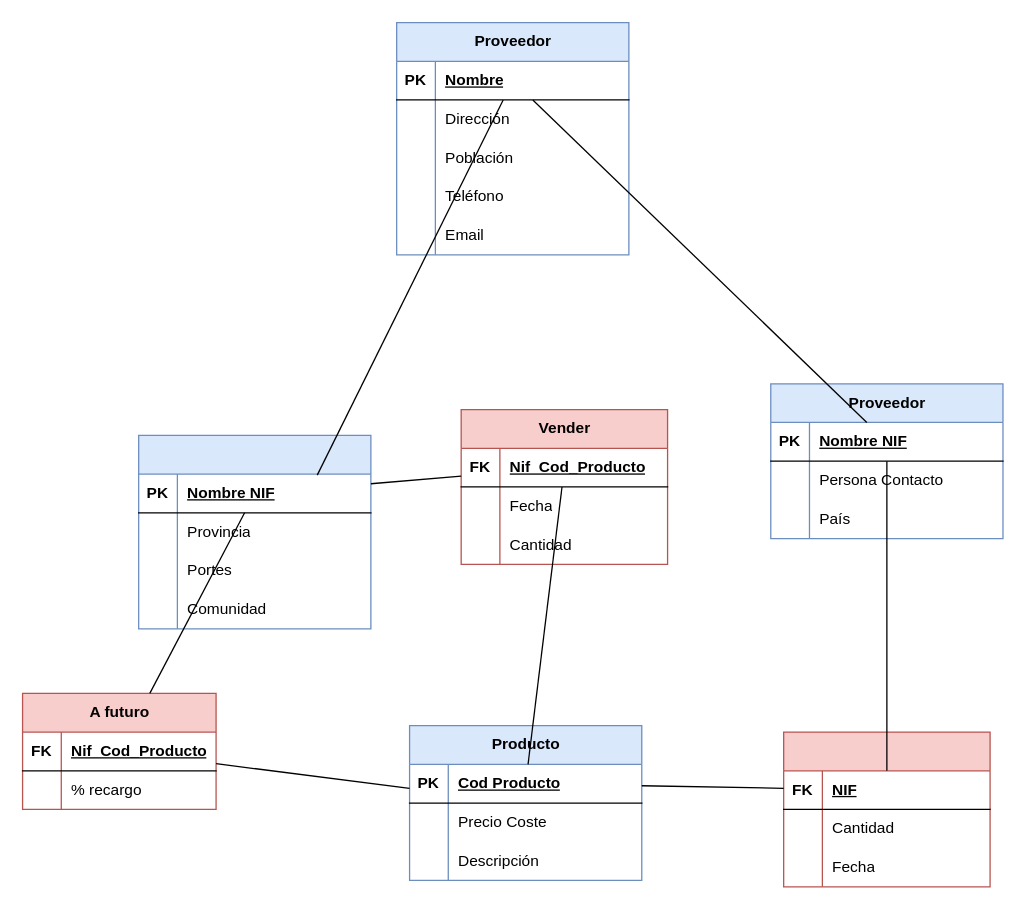
Some shapes in this 1026 by 909 pixel diagram are drawn without their labels. The box of each missing label's shape, as (x1, y1, x2, y2) in pixels:
Cliente: (137, 434, 371, 629)
Provee: (782, 731, 990, 887)
